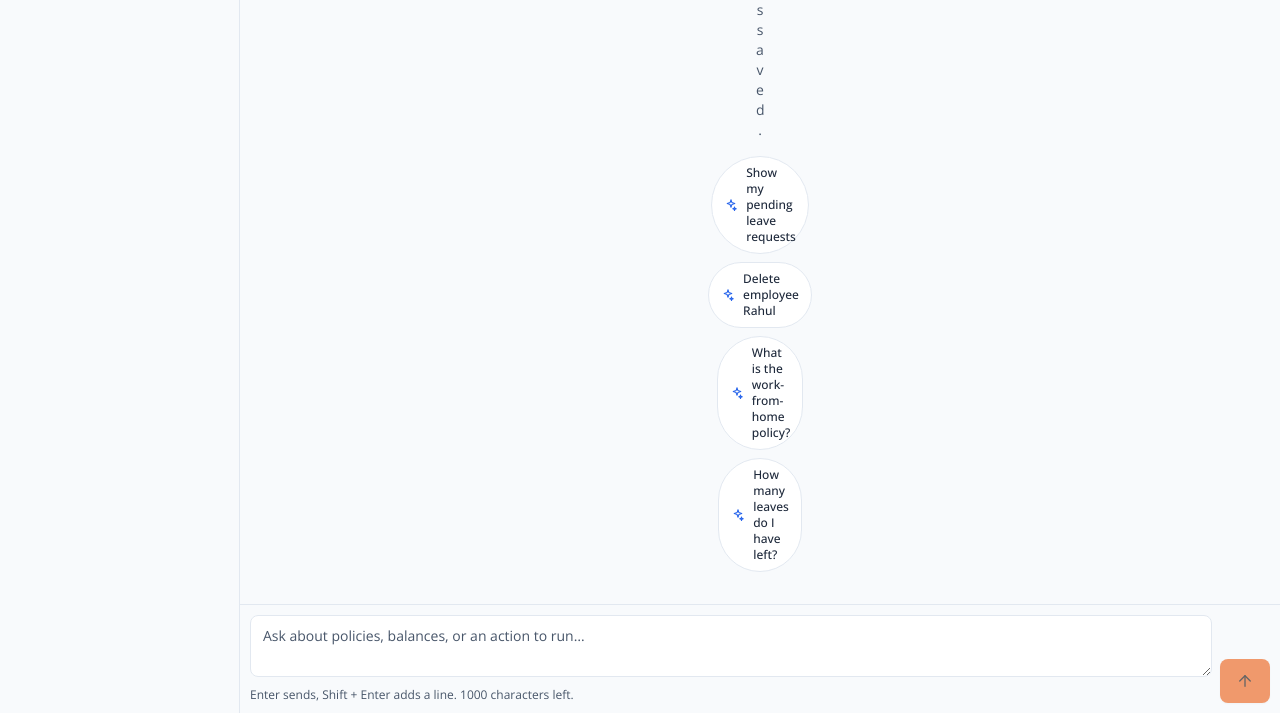
Test: AI chat panel — PROJECT.md §17 scenarios › §17.1 answers a policy question with retrieval steps and sources
(page scrolled)
Type "What is the work-from-home policy?" into the text box named "message the hr assistant".
click(731, 646); type("What is the work-from-home policy?")  # box [250, 615, 1212, 677]
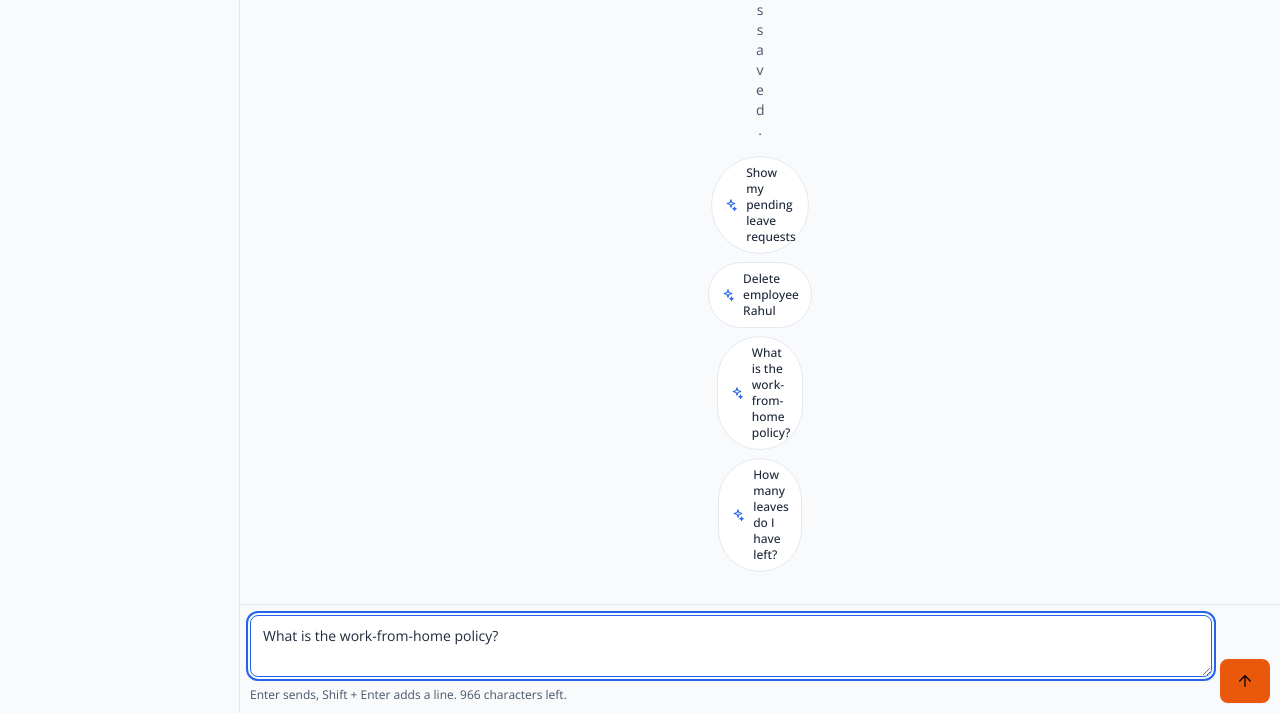
Click the button named "send message".
click(1245, 681)  # box [1220, 659, 1270, 703]
(page scrolled)
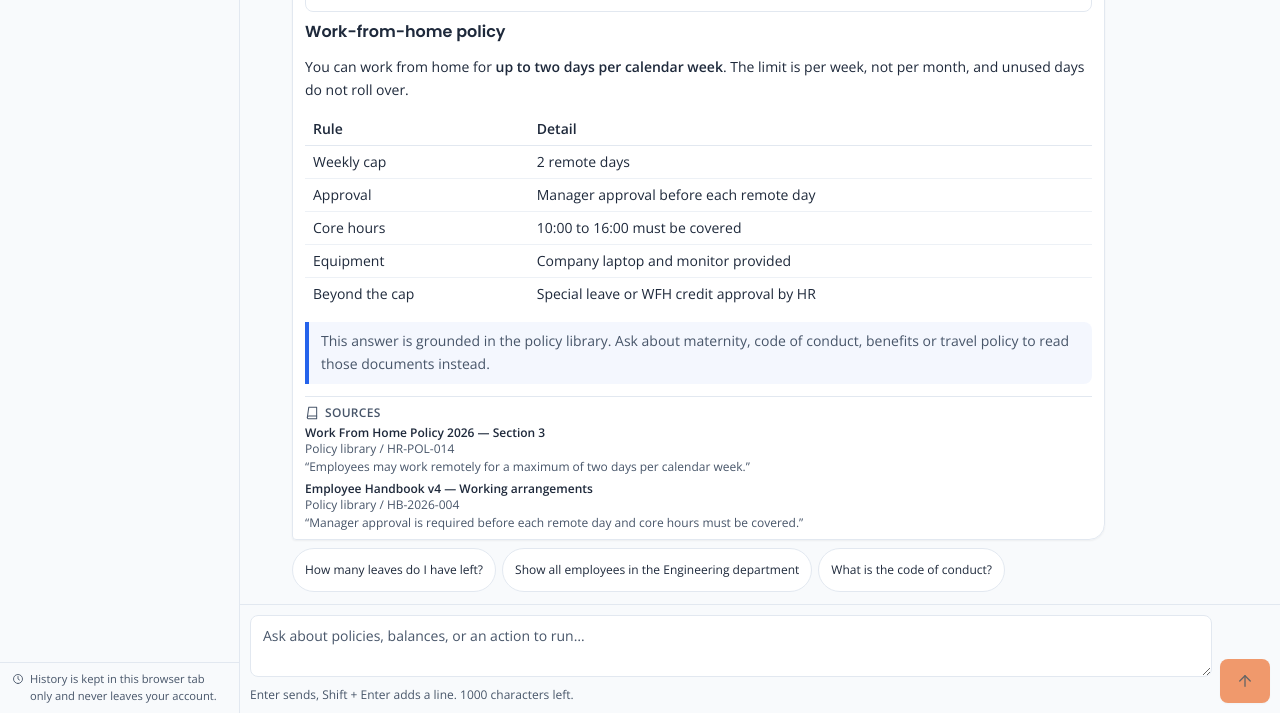
Expected: the heading "Work-from-home policy" is shown, [305, 20, 506, 43]
Expected: the text "Work From Home Policy 2026 — Section 3" is shown, [305, 424, 545, 441]
